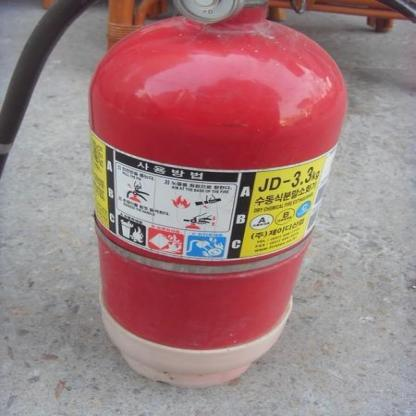Fire Extinguisher: (10, 0, 354, 396)
